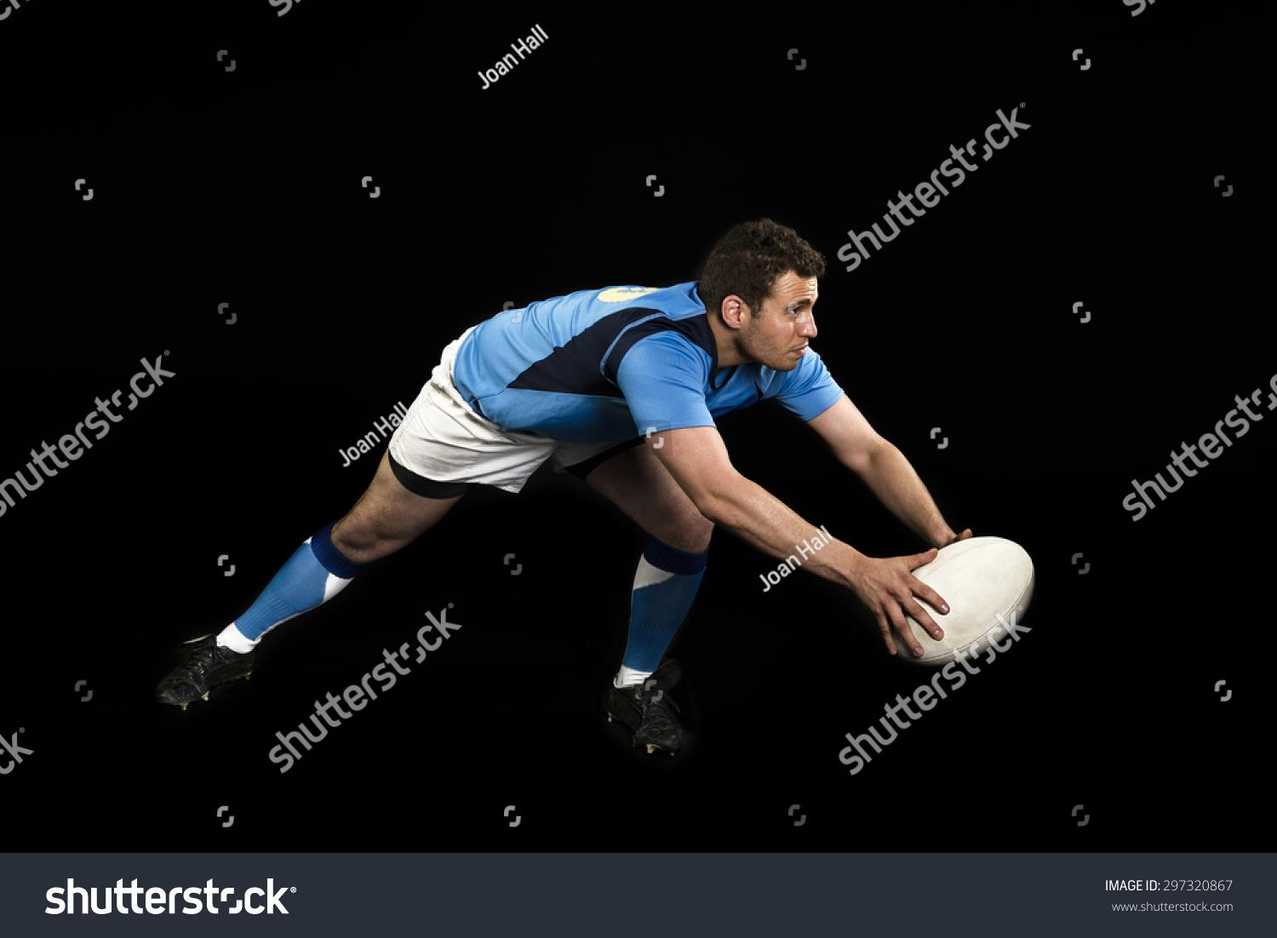ballon_rugby: (877, 527, 1047, 670)
